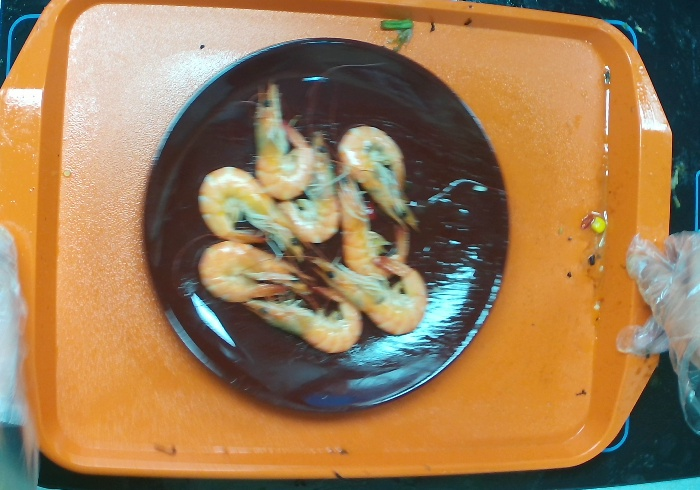HZYJPL-Ka_Fei_Yuan_Pan: (139, 35, 510, 414)
